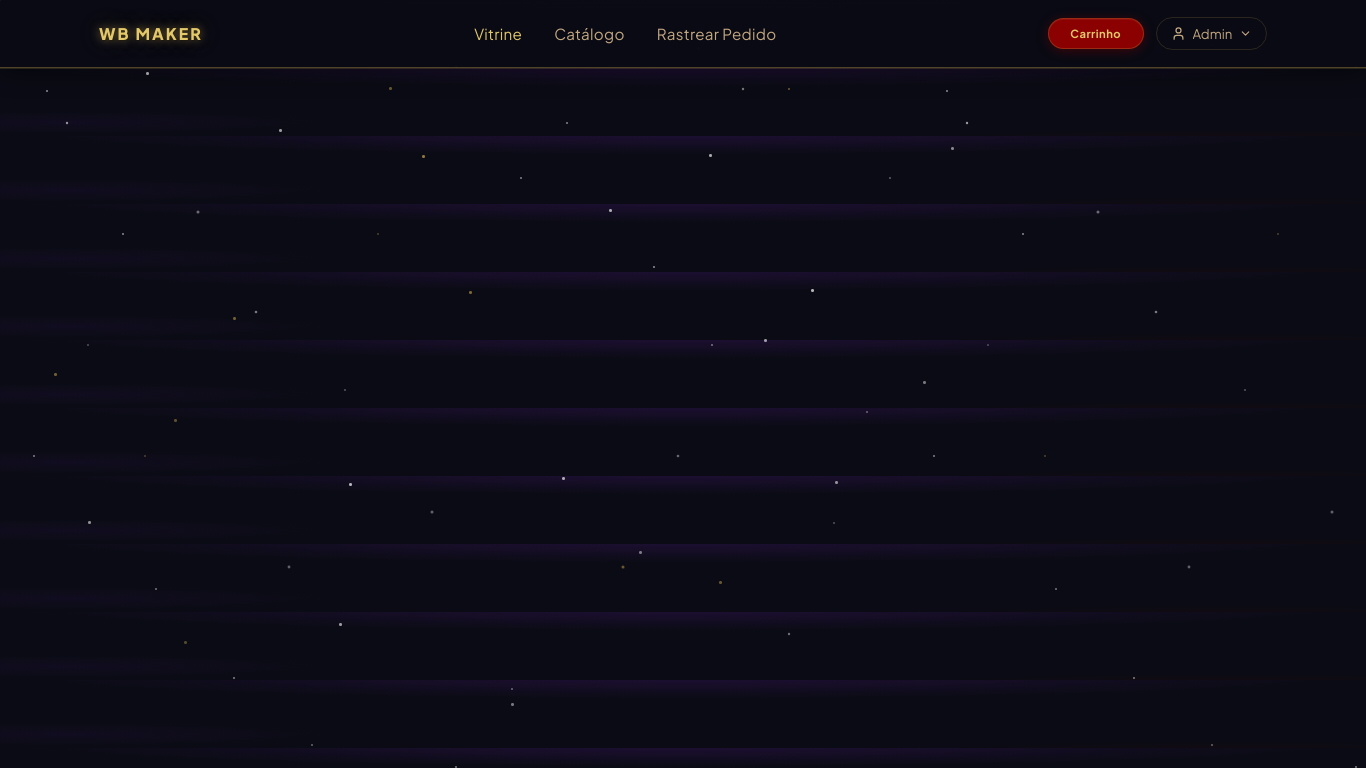
Test: Header › usuário admin › exibe link "Painel Admin" para usuário admin
Click the button "Admin": (1211, 34) [1156,17,1267,50]
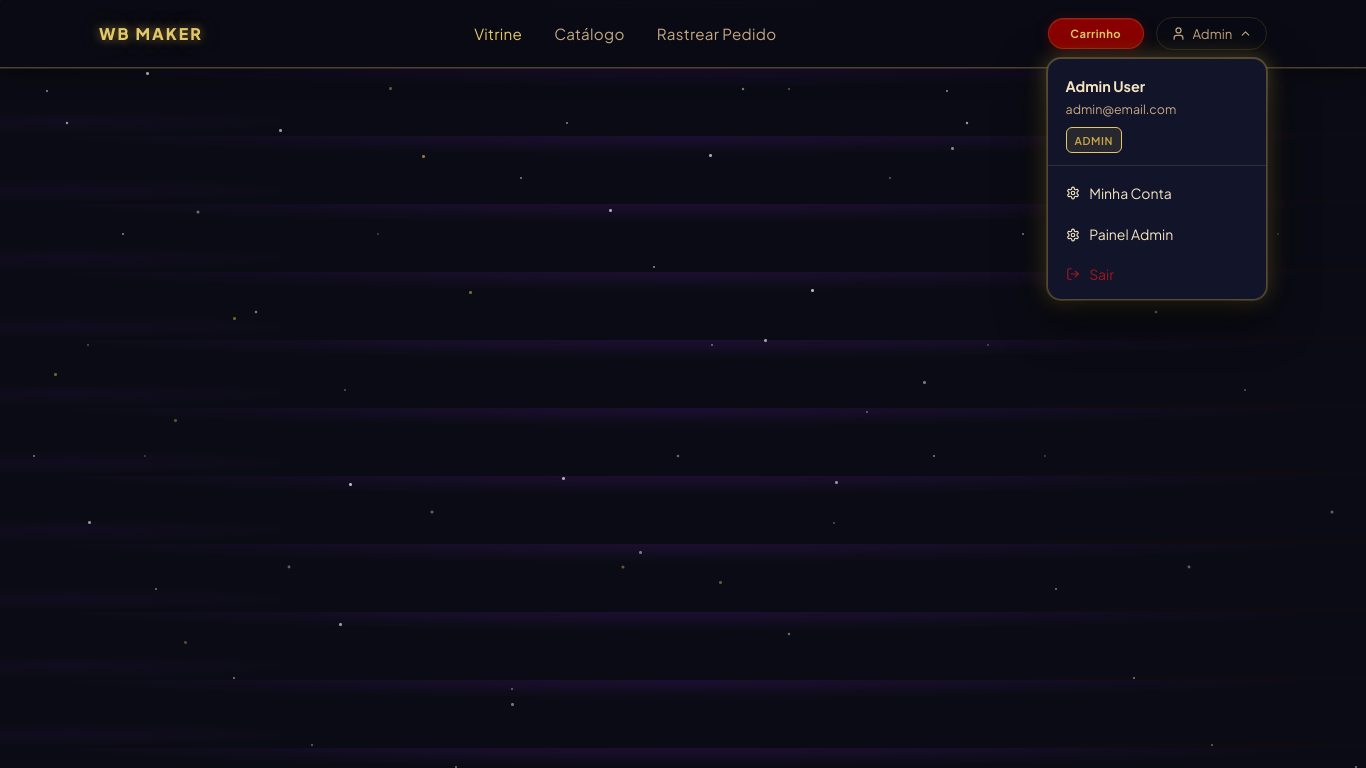
Check: the link "Painel Admin" is shown, box [1066,225,1173,243]
